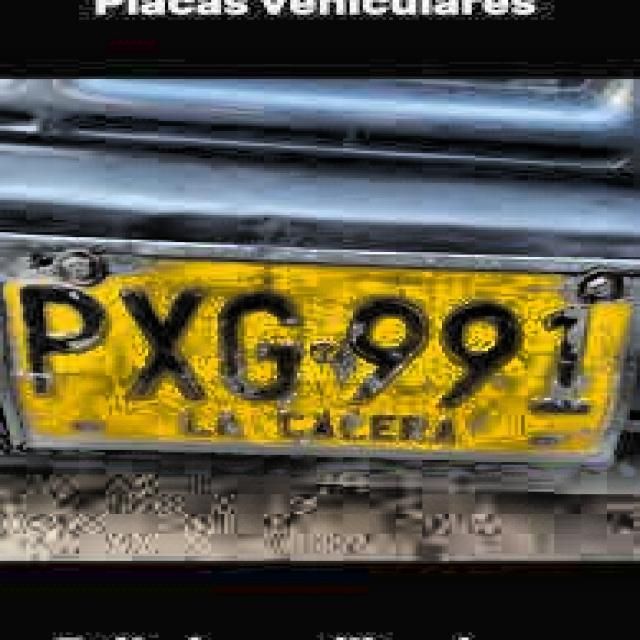plate: (3, 238, 637, 456)
